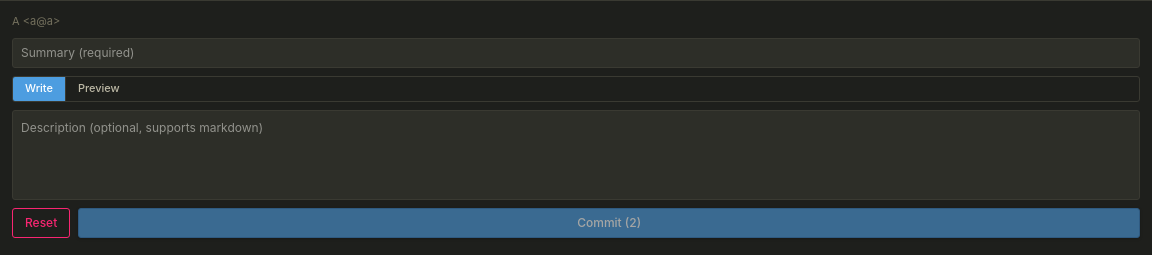
Test case: CommitForm › disables Commit until there is a staged file and a subject
expect the button "Commit (2)" is disabled: met, box left=78, top=208, right=1140, bottom=238
Type "My change" into the field with placeholder "Summary (required)".
click(576, 52); type("My change")  # box left=12, top=38, right=1140, bottom=68
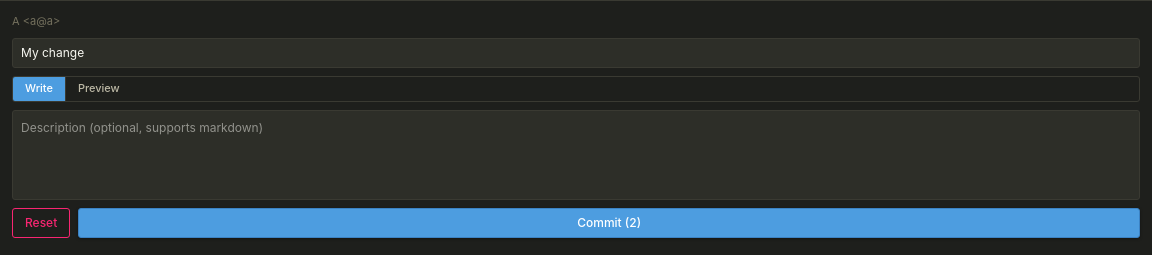
expect the button "Commit (2)" is enabled: met, box left=78, top=208, right=1140, bottom=238
